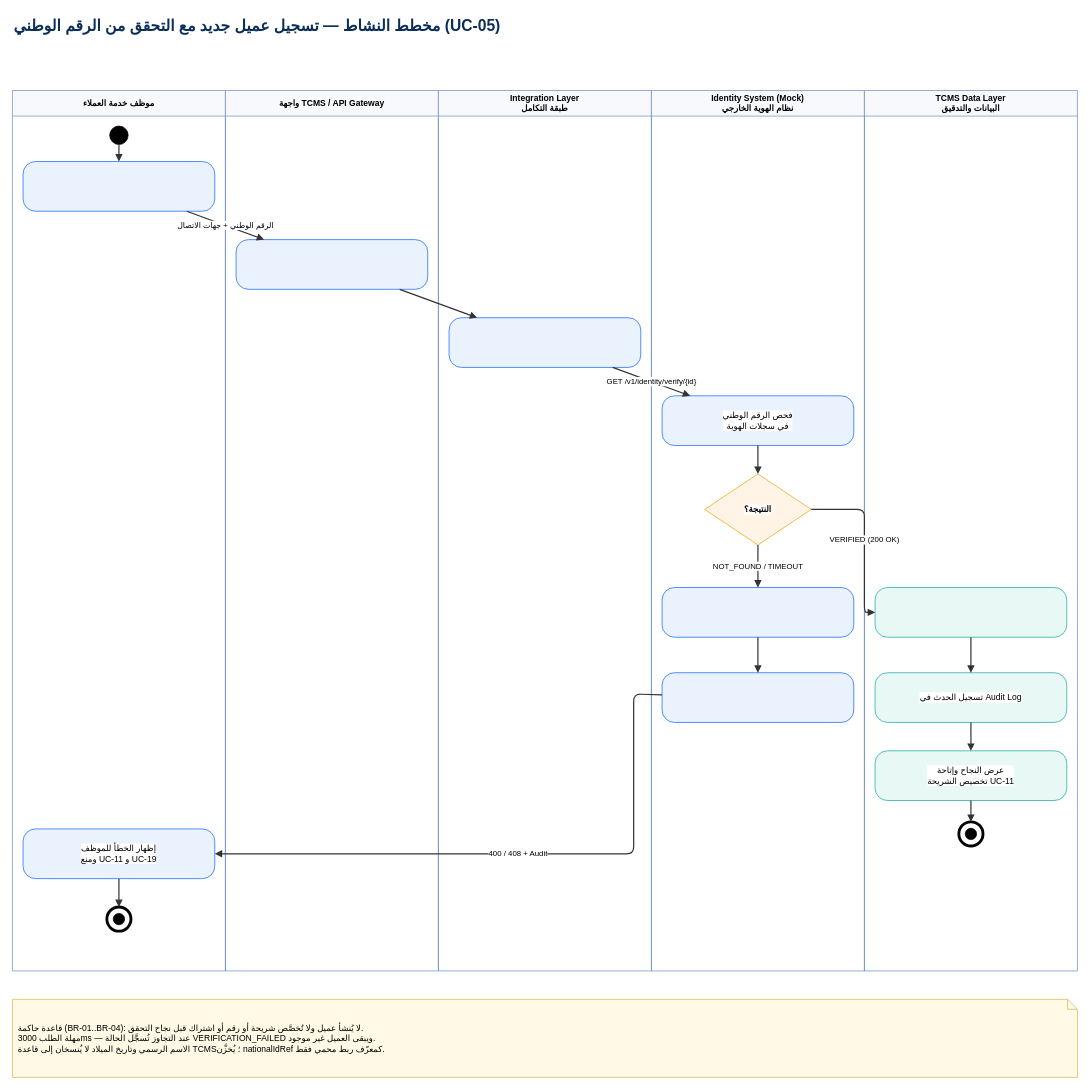
This 1090x1090 diagram has some shape labels left out. The shapes that lost their labels are listed below. From the top down, each one's centre as x and y in pixels, then its label:
At point (118, 186): "إدخال الرقم الوطني والبيانات الأساسية".
At point (331, 264): "إرسال نموذج العميل POST /api/v1/customers".
At point (544, 342): "استدعاء تحقق متزامن VerifyNationalID()".
At point (757, 612): "رفض الإنشاء VERIFICATION_FAILED".
At point (970, 612): "إنشاء سجل العميل VERIFIED + توليد Customer_ID".
At point (757, 697): "تسجيل محاولة الفشل في Audit Log".
